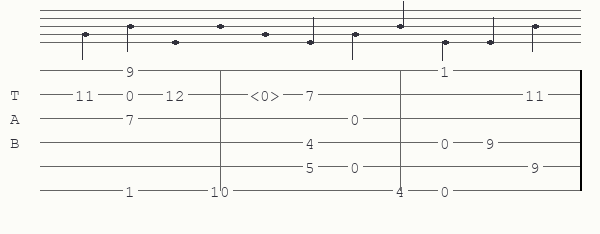0: (125, 87, 139, 101), (350, 159, 364, 173), (350, 111, 364, 125), (440, 135, 454, 149), (440, 183, 454, 197)
1: (125, 183, 139, 197), (440, 63, 454, 77)
10: (210, 183, 234, 197)
11: (75, 87, 99, 101), (525, 87, 549, 101)
12: (165, 87, 189, 101)
4: (305, 135, 319, 149), (395, 183, 409, 197)
5: (305, 159, 319, 173)
7: (125, 111, 139, 125), (305, 87, 319, 101)
9: (125, 63, 139, 77), (485, 135, 499, 149), (530, 159, 544, 173)
harmonic: (250, 87, 284, 102)
